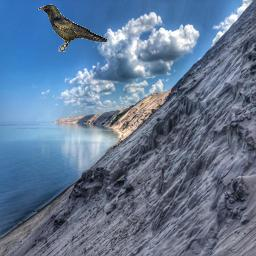Crow: (36, 4, 107, 52)
